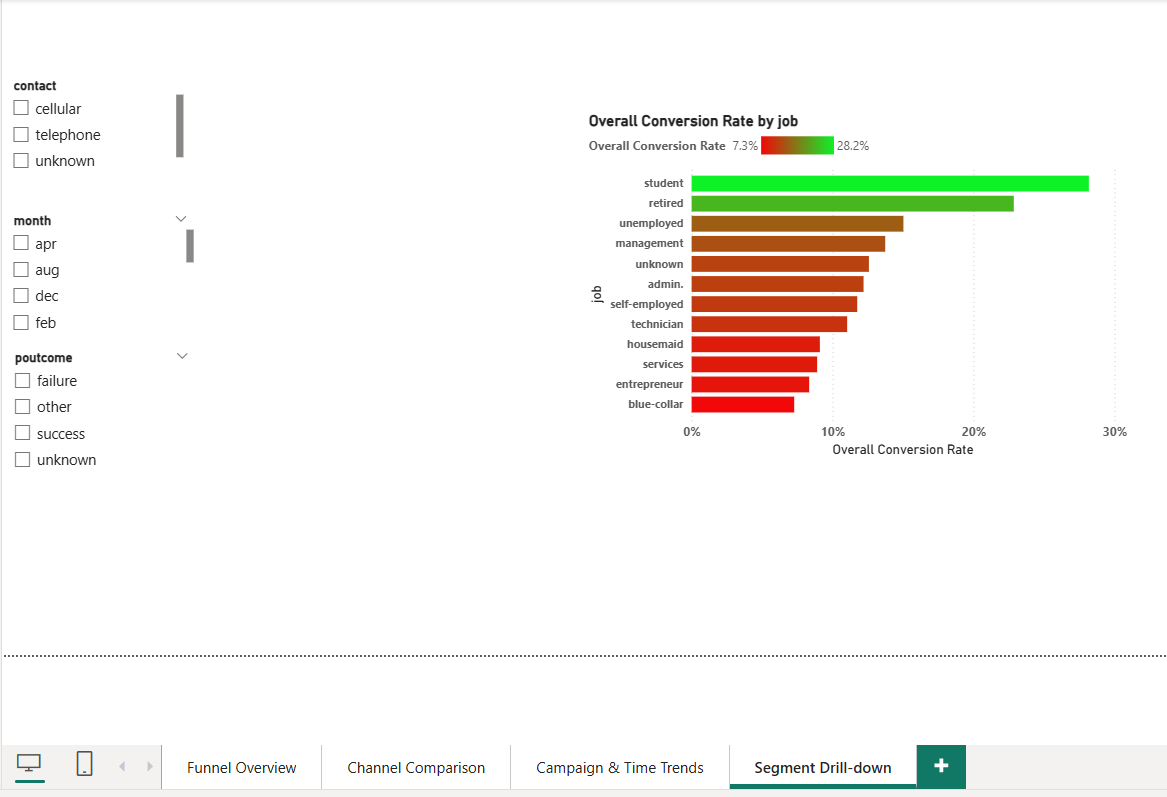

This screenshot's page, from the dashboard's own definition file:
{"tool":"powerbi","page":{"name":"Segment Drill-down","canvas":[1280,720],"ordinal":3},"visuals":[{"type":"clusteredBarChart","fields":{"Y":["Bank Marketing Campaign Dataset - bank.Overall Conversion Rate"],"Category":["Bank Marketing Campaign Dataset - bank.job"]},"box":[639.5,123.5,601,384.2],"z":0},{"type":"slicer","fields":{"Values":["Bank Marketing Campaign Dataset - bank.contact"]},"box":[0,81,204.5,109.8],"z":1000},{"type":"slicer","fields":{"Values":["Bank Marketing Campaign Dataset - bank.month"]},"box":[0,229.2,215.4,141.3],"z":2000},{"type":"slicer","fields":{"Values":["Bank Marketing Campaign Dataset - bank.poutcome"]},"box":[1.4,380.1,215.4,150.9],"z":3000}]}

Visuals, with their boxes on the page's 1280x720 design canvas (x1, y1, x2, y2). These are canvas units, not pixel positions in the 1167x797 screenshot, which may show the page scaled, cropped or inside an application window:
clusteredBarChart - Bank Marketing Campaign Dataset - bank.Overall Conversion Rate x Bank Marketing Campaign Dataset - bank.job: l=640, t=124, r=1240, b=508
slicer - Bank Marketing Campaign Dataset - bank.contact: l=0, t=81, r=204, b=191
slicer - Bank Marketing Campaign Dataset - bank.month: l=0, t=229, r=215, b=370
slicer - Bank Marketing Campaign Dataset - bank.poutcome: l=1, t=380, r=217, b=531
